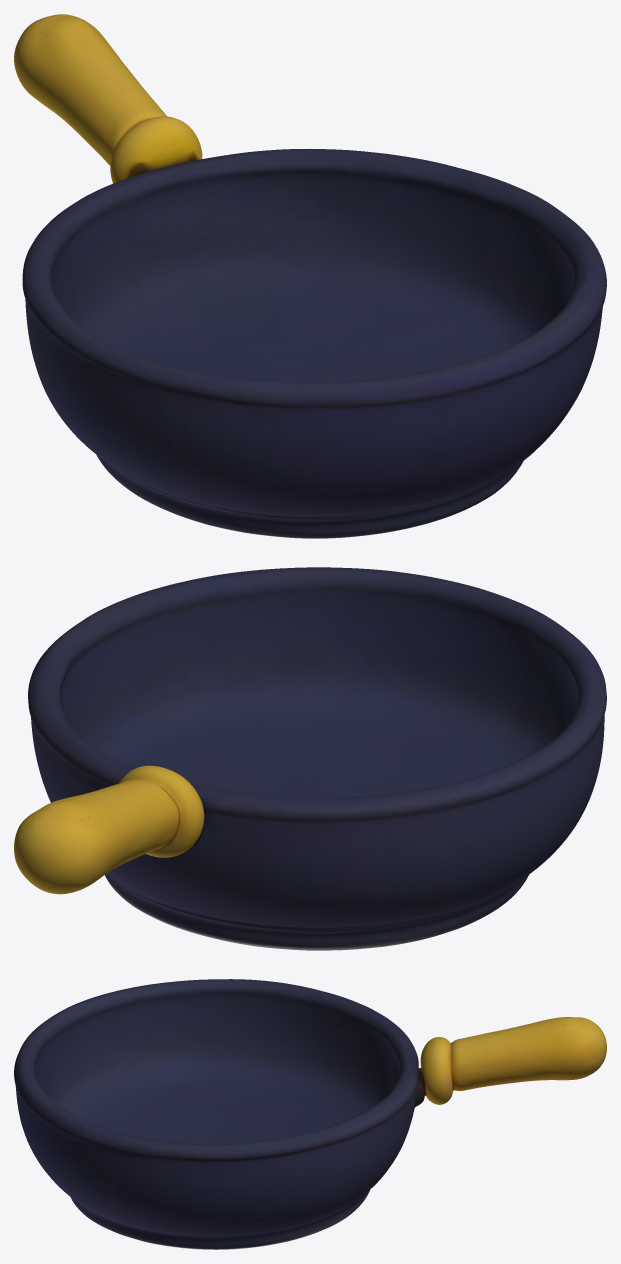
Rendered from FryingPan.glb.
The picture shows the model from 3 angles, top to bottom: view 1: azimuth 30°, elevation 25°; view 2: azimuth 150°, elevation 25°; view 3: azimuth 270°, elevation 25°; orthographic projection. The views are drawn at different scales.
Parts seen in each view (by area): view 1: tripo_node_d2a55d1c-87f2-44fa-badd-4575571d8c7f; view 2: tripo_node_d2a55d1c-87f2-44fa-badd-4575571d8c7f; view 3: tripo_node_d2a55d1c-87f2-44fa-badd-4575571d8c7f.
Boxes of the visible parts, x1,y1,x2,y2 form: tripo_node_d2a55d1c-87f2-44fa-badd-4575571d8c7f: (14,14,606,538); tripo_node_d2a55d1c-87f2-44fa-badd-4575571d8c7f: (14,567,606,950); tripo_node_d2a55d1c-87f2-44fa-badd-4575571d8c7f: (14,979,606,1249).
Size of the model in its own units: 0.6883 by 0.3215 by 1.
Materials: 1 (1 with a texture image).
